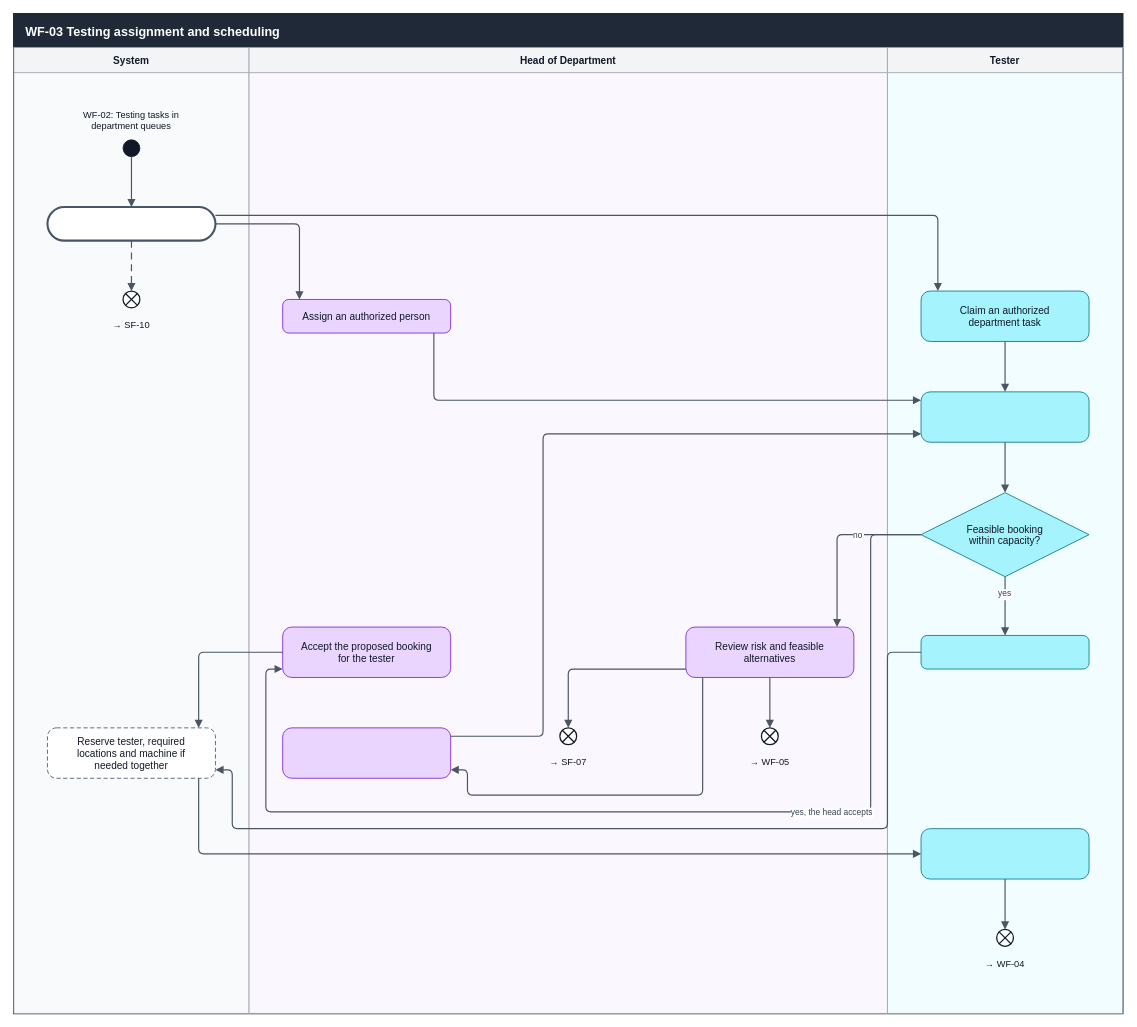
The diagram is 1137 pixels wide and 1027 high, and some of its shapes have lost their labels. Here are the shapes that lost their labels. From the top down, the centre of each, then its label:
the point at 131,223: Department queue
the point at 1004,416: View the proposed booking for the agreed way
the point at 1004,652: Accept the proposed booking
the point at 366,752: Record planned OverTime with a reason
the point at 1004,853: Receive reminder and measure
